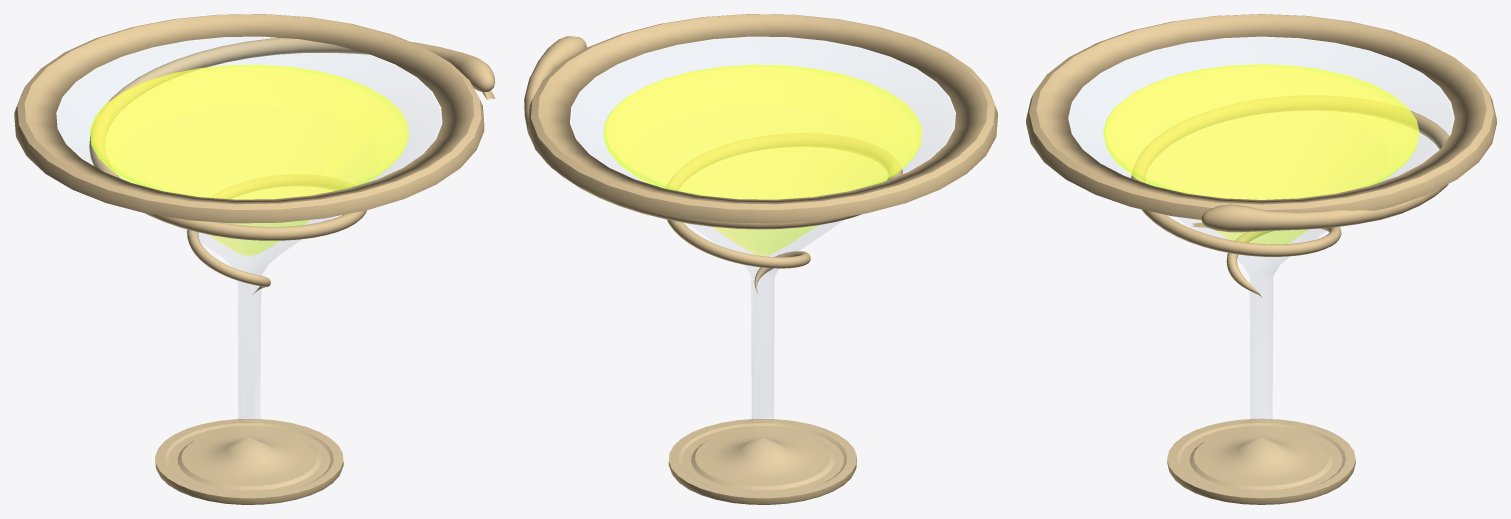
The model's file is AlesssandroCocktailGlass.fbx.
3 views of the same model, side by side, from view 1: azimuth 30°, elevation 25°; view 2: azimuth 150°, elevation 25°; view 3: azimuth 270°, elevation 25° (orthographic).
Parts seen in each view (by area): view 1: CocktailGlass, Liquid; view 2: CocktailGlass, Liquid; view 3: CocktailGlass, Liquid.
Part boxes in pixels (x1,y1,x2,y2): CocktailGlass: [14, 14, 495, 504]; Liquid: [90, 64, 408, 255]; CocktailGlass: [524, 14, 997, 504]; Liquid: [603, 64, 922, 255]; CocktailGlass: [1026, 14, 1496, 504]; Liquid: [1103, 64, 1419, 244].
Bounding box in the file's own units: 262 × 213 × 249.
